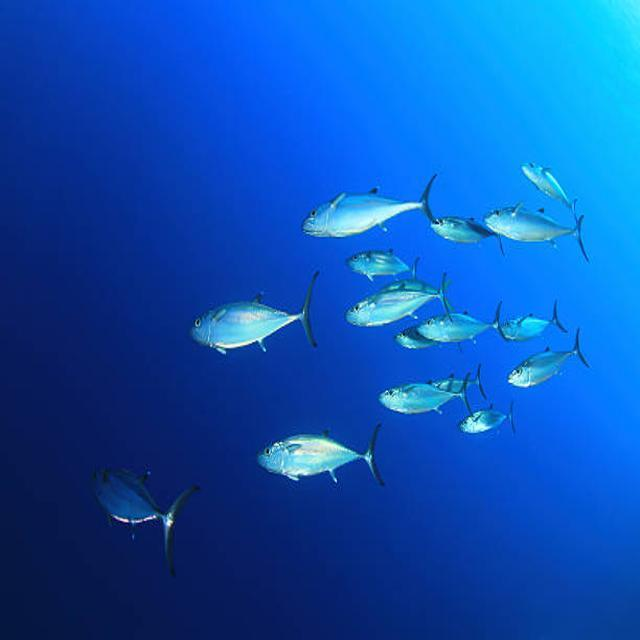fish: (87, 459, 206, 584), (186, 267, 321, 356), (254, 418, 383, 493), (301, 168, 437, 236), (486, 204, 589, 267), (342, 272, 451, 326), (506, 327, 593, 387), (419, 301, 504, 344), (520, 159, 580, 216), (380, 380, 472, 417), (429, 213, 507, 255), (347, 246, 420, 283), (499, 302, 565, 341), (430, 357, 486, 395), (460, 402, 518, 437), (396, 326, 441, 349)
